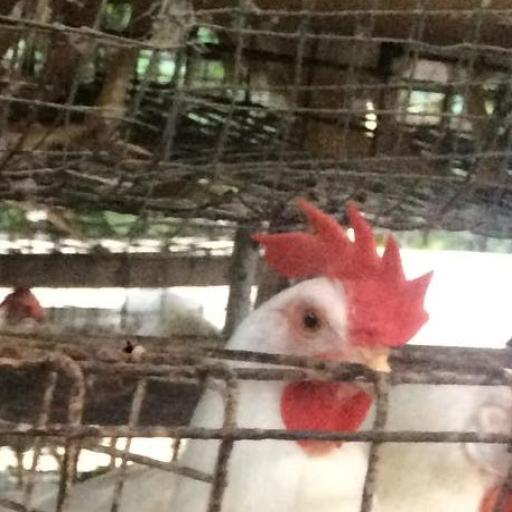healthy: (246, 207, 440, 423)
